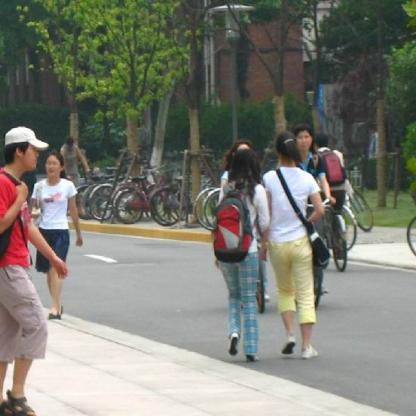person: (265, 130, 320, 364), (1, 125, 44, 416), (210, 148, 264, 362), (38, 154, 78, 326)
